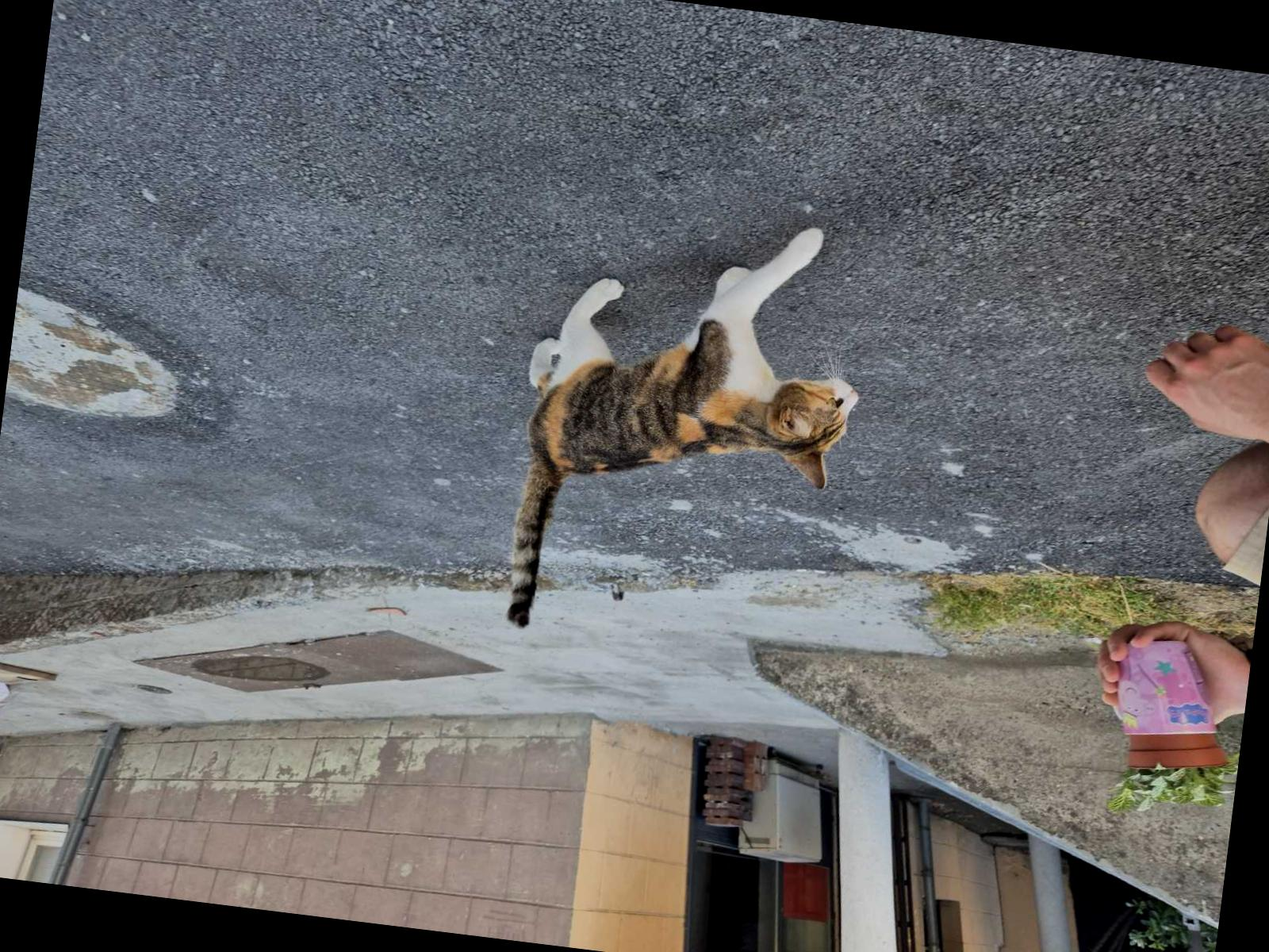macka: (495, 196, 877, 667)
